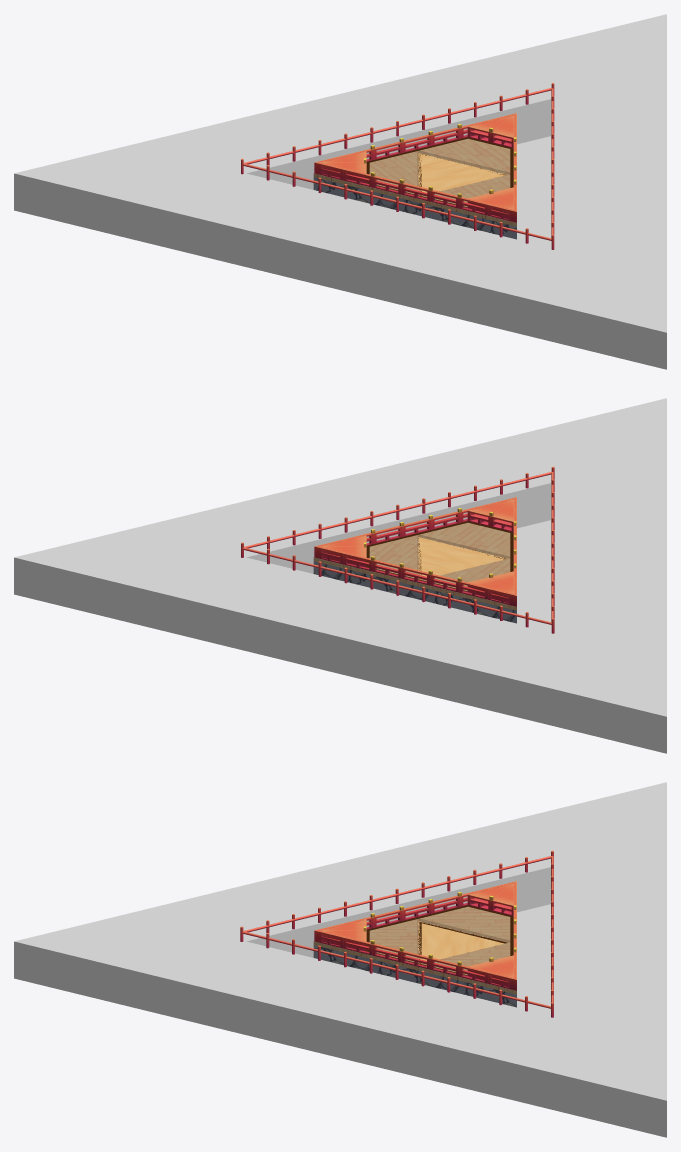
Rendered from Duel_Stage 20.fbx.
3 views of the same model, one above another, from view 1: azimuth 30°, elevation 25°; view 2: azimuth 150°, elevation 25°; view 3: azimuth 270°, elevation 25° (orthographic).
Visible parts, largest first — view 1: triangle_platform.002, triangle_platform, Cube.072, Cube.071, triangle_platform.001; view 2: triangle_platform.002, triangle_platform, Cube.072, Cube.071, triangle_platform.001; view 3: triangle_platform.002, triangle_platform, Cube.072, Cube.071, triangle_platform.001.
Part boxes in pixels (x1,y1,x2,y2): triangle_platform.002: (14, 14, 666, 369); triangle_platform: (313, 138, 516, 239); Cube.072: (314, 113, 516, 222); Cube.071: (241, 83, 554, 249); triangle_platform.001: (366, 137, 513, 207); triangle_platform.002: (14, 398, 666, 753); triangle_platform: (313, 522, 516, 623); Cube.072: (314, 497, 516, 606); Cube.071: (241, 466, 554, 633); triangle_platform.001: (366, 521, 513, 591); triangle_platform.002: (14, 782, 666, 1137); triangle_platform: (313, 906, 516, 1007); Cube.072: (314, 881, 516, 990); Cube.071: (240, 850, 553, 1017); triangle_platform.001: (366, 905, 513, 975).
Size of the model in its own units: 16601 by 1246 by 14377.
